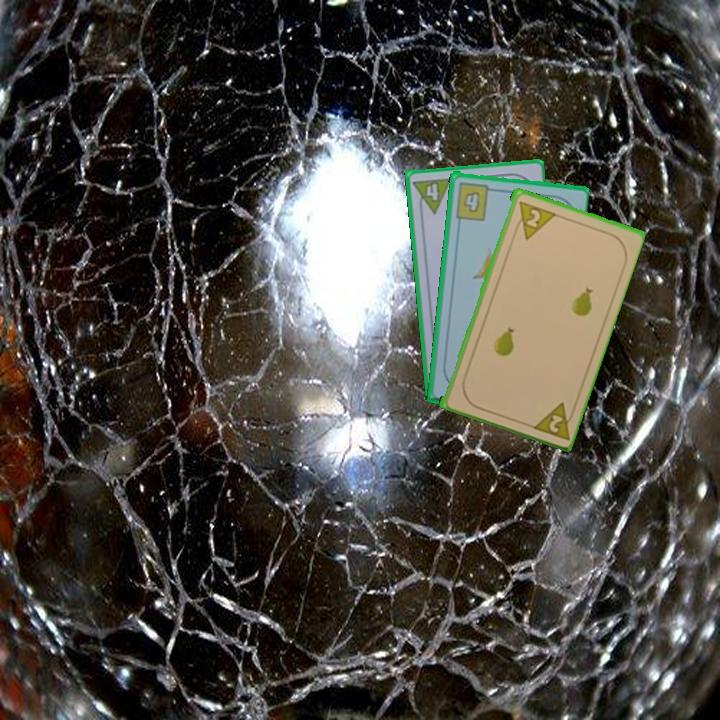2p: (527, 398, 579, 443), (511, 197, 557, 242)
4b: (452, 178, 498, 223)
4p: (410, 174, 454, 217)
